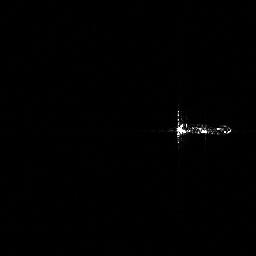ship: (170, 105, 234, 149)
